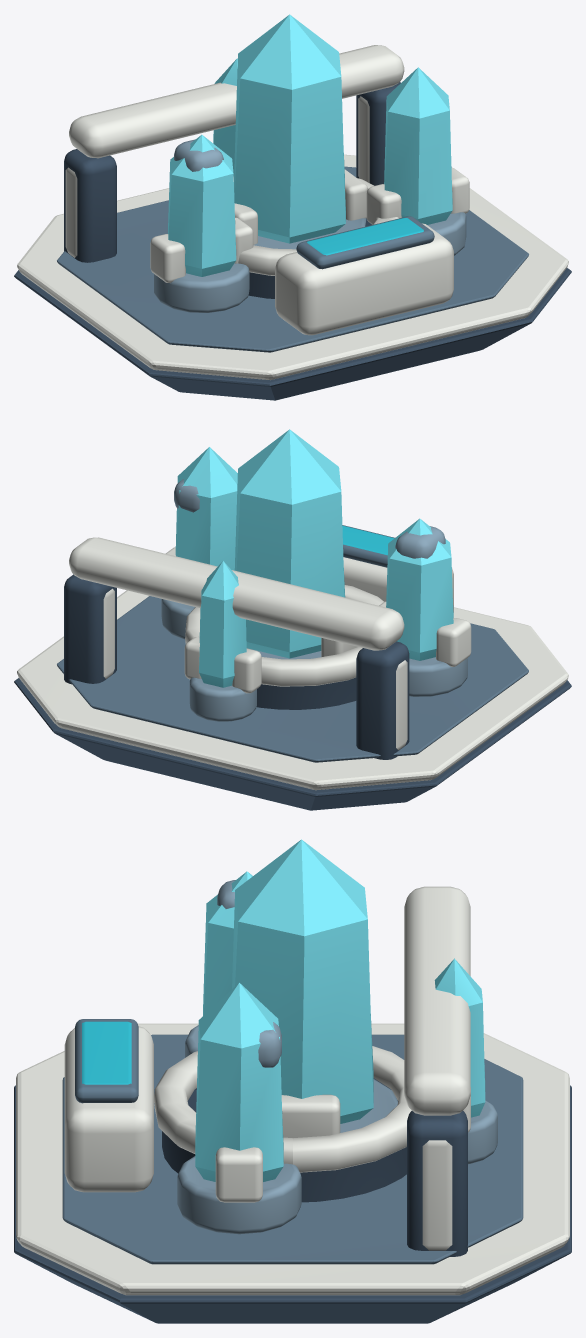
The model's file is crystal_refinery_lv5.glb.
The picture shows the model from 3 angles, top to bottom: view 1: azimuth 30°, elevation 25°; view 2: azimuth 150°, elevation 25°; view 3: azimuth 270°, elevation 25°; orthographic projection. The views are drawn at different scales.
Visible parts, largest first — view 1: Structure; view 2: Structure; view 3: Structure.
Boxes of the visible parts, <box> form: Structure: <box>14,14,571,400</box>; Structure: <box>14,429,571,810</box>; Structure: <box>14,839,571,1323</box>.
Size of the model in its own units: 7.38 by 4.98 by 6.56.
